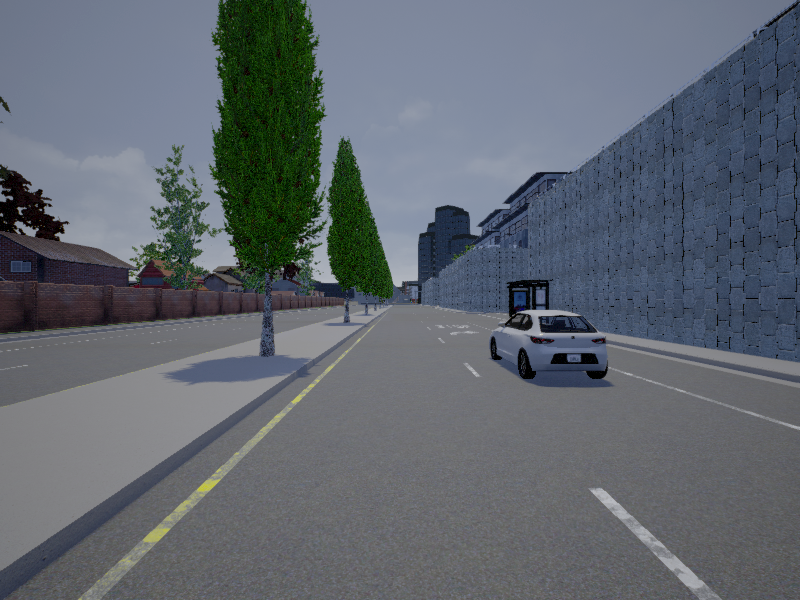Benign: (490, 308, 610, 378)
